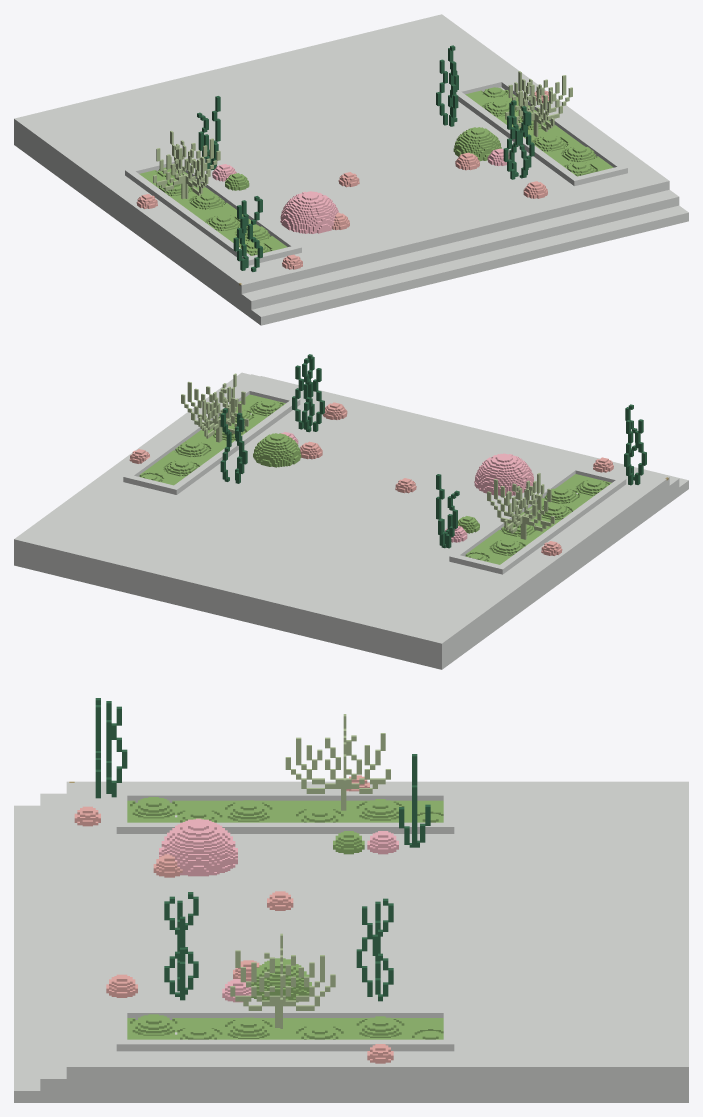
File: temple-isle.glb
3 views of the same model, one above another, from view 1: azimuth 30°, elevation 25°; view 2: azimuth 150°, elevation 25°; view 3: azimuth 270°, elevation 25° (orthographic). The views are drawn at different scales.
Visible parts, largest first — view 1: Polygon; view 2: Polygon; view 3: Polygon.
Boxes of the visible parts, x1,y1,x2,y2 form: Polygon: (14,14,688,325); Polygon: (14,354,688,669); Polygon: (14,698,688,1102).
Size of the model in its own units: 25.6 by 5.7 by 25.6.
1 material, 1 textured.
